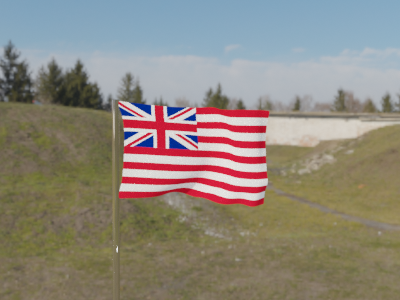Malaysia flag: (118, 102, 268, 208)
